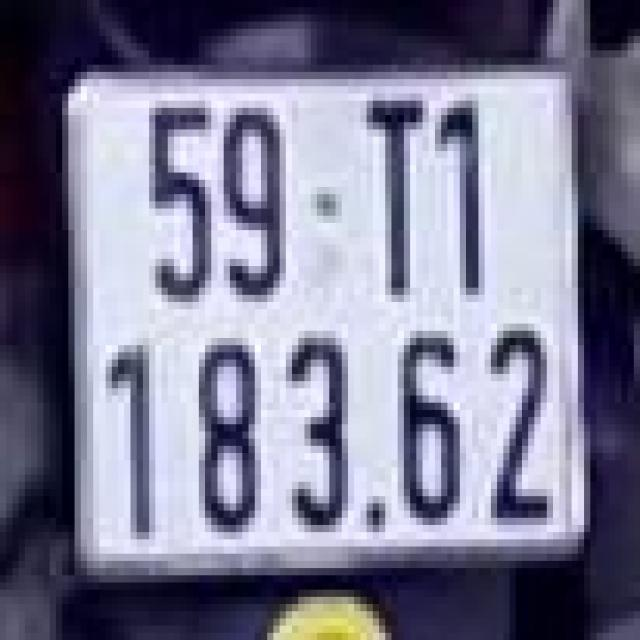1: (96, 331, 177, 546), (432, 79, 500, 302)
2: (472, 309, 559, 532)
3: (280, 317, 354, 532)
5: (140, 90, 220, 313)
6: (392, 313, 472, 528)
8: (190, 324, 270, 532)
9: (221, 97, 295, 306)
T: (348, 86, 429, 310)
